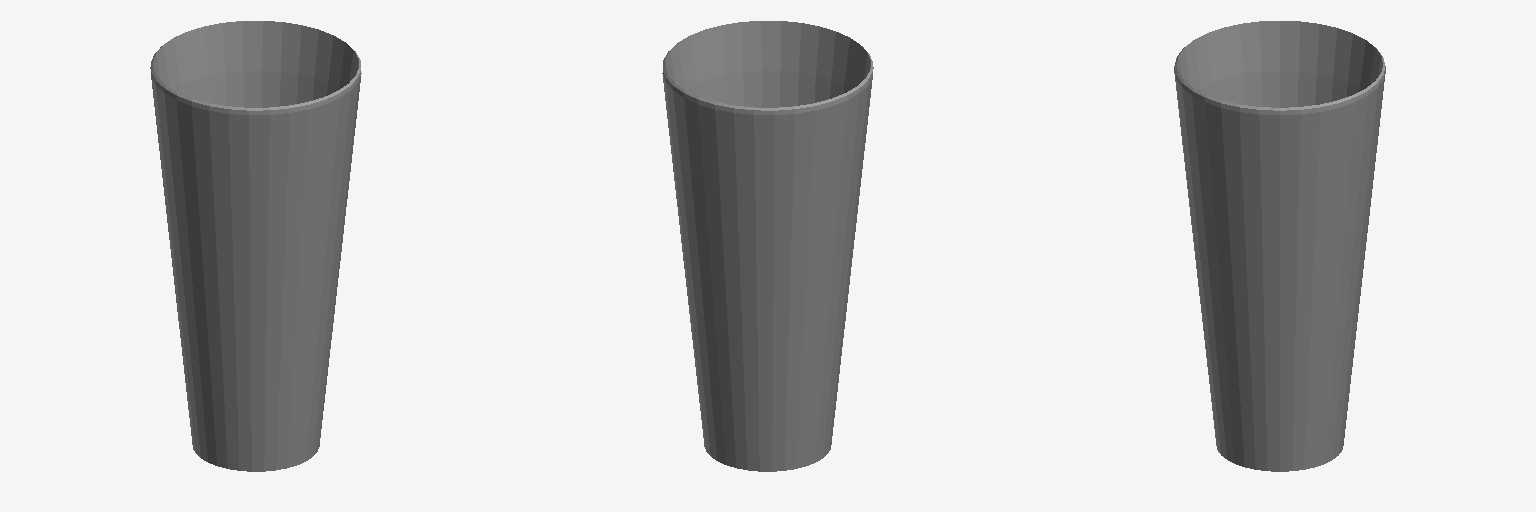
Rendered from glass1.obj.
3 renders of one model, left to right at view 1: azimuth 30°, elevation 25°; view 2: azimuth 150°, elevation 25°; view 3: azimuth 270°, elevation 25°, orthographic.
Visible parts, largest first — view 1: Circle_Circle_Material.005; view 2: Circle_Circle_Material.005; view 3: Circle_Circle_Material.005.
Boxes of the visible parts, x1,y1,x2,y2 form: Circle_Circle_Material.005: [150, 21, 361, 471]; Circle_Circle_Material.005: [662, 21, 873, 471]; Circle_Circle_Material.005: [1174, 21, 1385, 471].
Bounding box in the file's own units: 5 × 10 × 5.